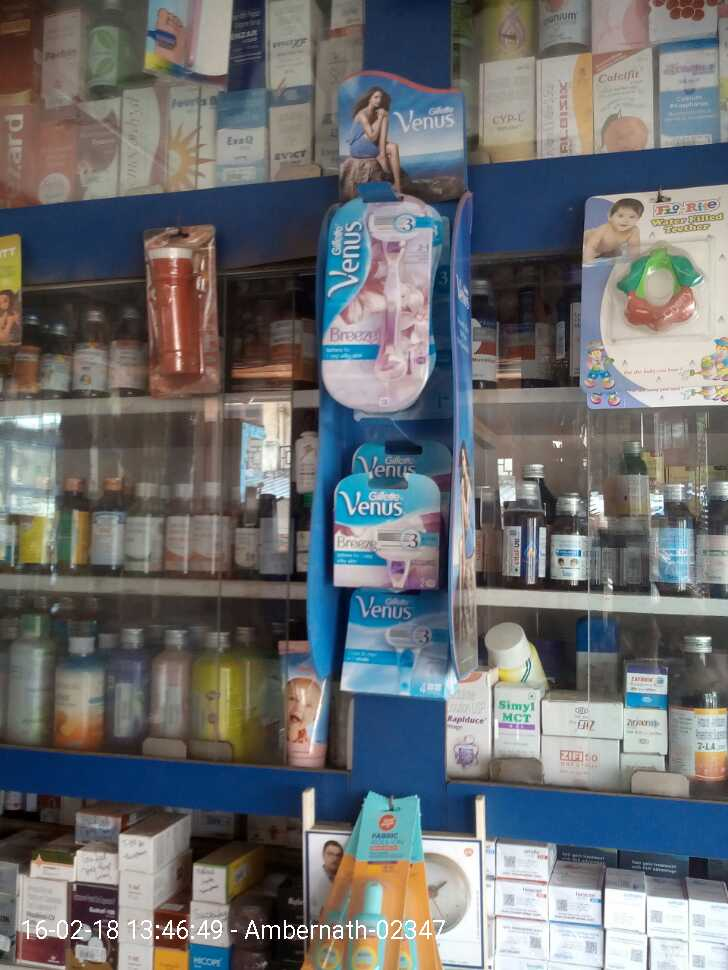beauty: (324, 187, 448, 422), (328, 469, 450, 595), (336, 590, 456, 704)
